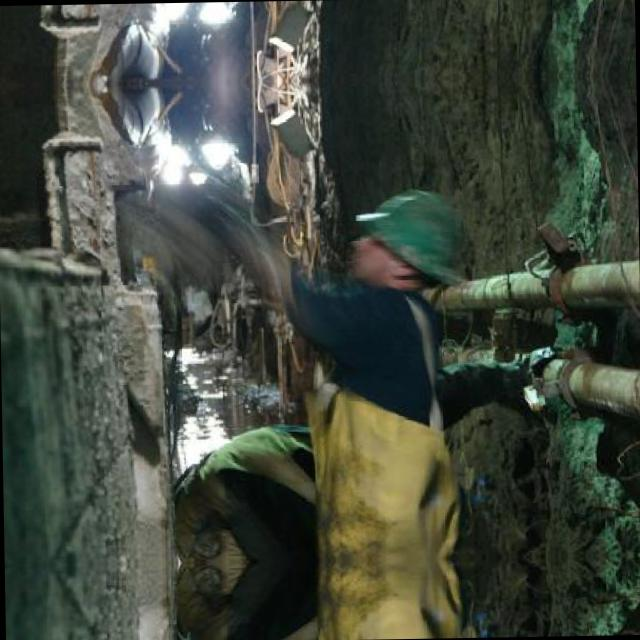helmet: (335, 178, 477, 311)
